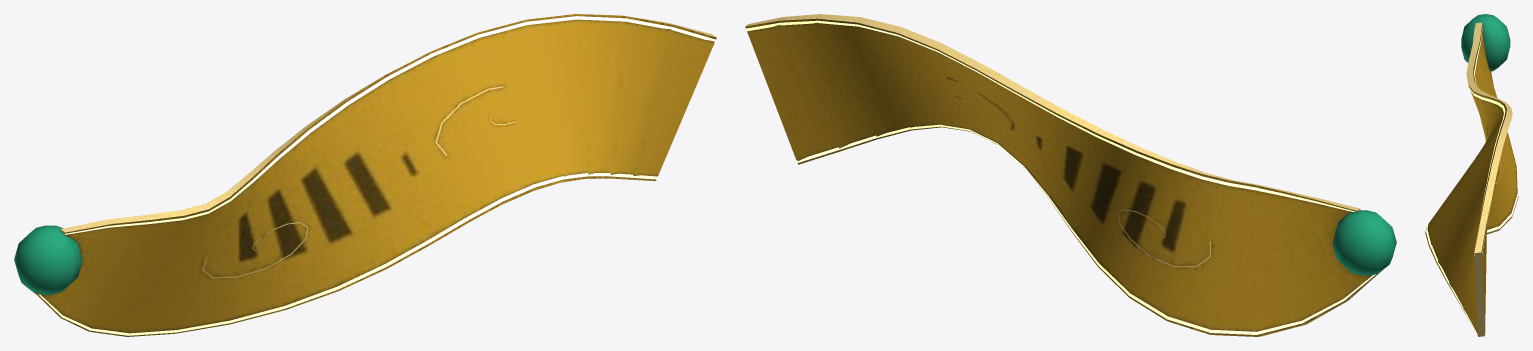
3 views of the same model, side by side, from view 1: azimuth 30°, elevation 25°; view 2: azimuth 150°, elevation 25°; view 3: azimuth 270°, elevation 25° (orthographic). The views are drawn at different scales.
Visible parts, largest first — view 1: Silk_satin_gold, glow_Fine_luminous_gold_piping, Jade_knot, Polished_gold_edges_and_scrollwork; view 2: Silk_satin_gold, Polished_gold_edges_and_scrollwork, glow_Fine_luminous_gold_piping, Jade_knot; view 3: Silk_satin_gold, Polished_gold_edges_and_scrollwork, Jade_knot, glow_Fine_luminous_gold_piping.
Part boxes in pixels (bbox=[...]): Silk_satin_gold: bbox=[38, 14, 716, 336]; glow_Fine_luminous_gold_piping: bbox=[39, 16, 716, 335]; Jade_knot: bbox=[14, 225, 82, 294]; Polished_gold_edges_and_scrollwork: bbox=[33, 14, 715, 313]; Silk_satin_gold: bbox=[745, 18, 1378, 336]; Polished_gold_edges_and_scrollwork: bbox=[745, 14, 1381, 336]; glow_Fine_luminous_gold_piping: bbox=[746, 20, 1375, 334]; Jade_knot: bbox=[1332, 210, 1396, 275]; Silk_satin_gold: bbox=[1425, 23, 1518, 336]; Polished_gold_edges_and_scrollwork: bbox=[1457, 22, 1512, 336]; Jade_knot: bbox=[1461, 14, 1510, 71]; glow_Fine_luminous_gold_piping: bbox=[1426, 24, 1518, 334].
Bounding box in the file's own units: 0.9606 × 0.3143 × 0.137.
4 materials, 3 textured.
